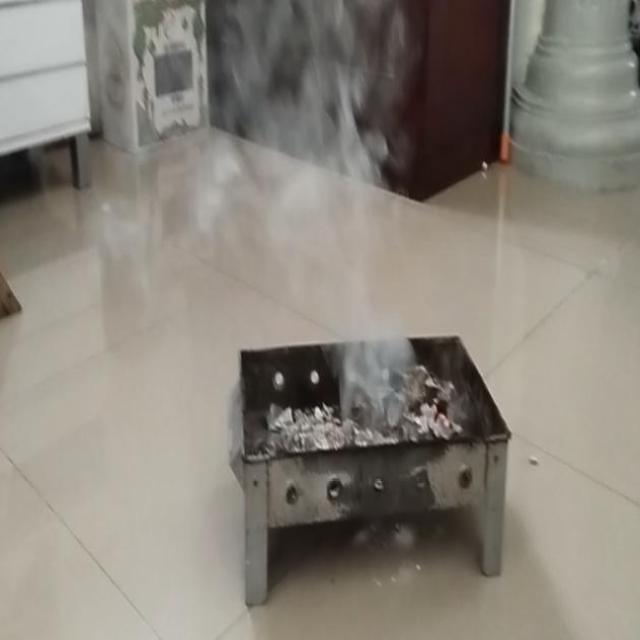fire: (55, 0, 394, 263), (334, 263, 414, 416)
